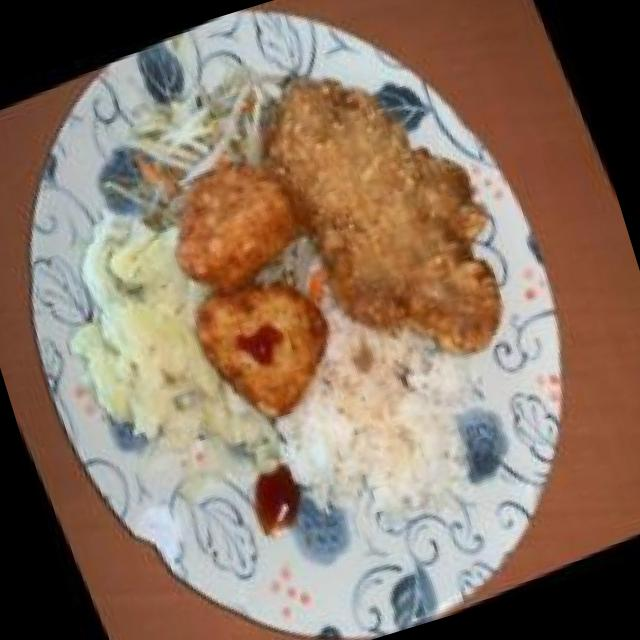chinese_cabbage: (39, 199, 254, 497)
fried_chicken: (268, 61, 503, 384)
mung_bean_sprouts: (100, 59, 288, 208)
rice: (276, 325, 482, 535)
triangle_hash_brown: (144, 146, 364, 432)
